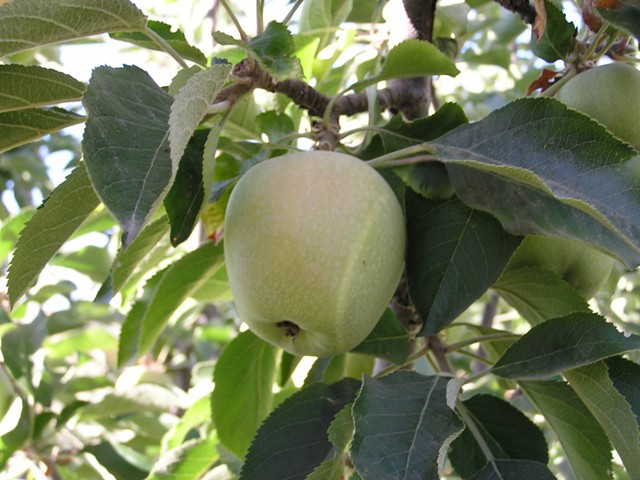apple: (223, 150, 406, 357)
